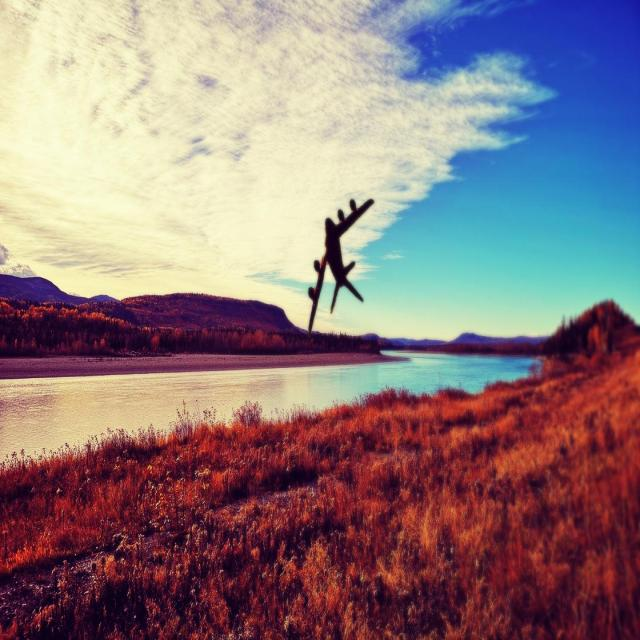airplane: (307, 197, 374, 332)
